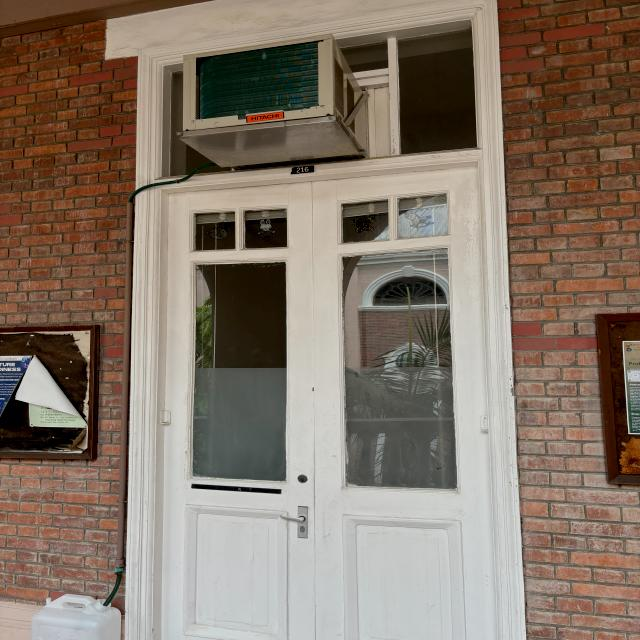MB216_roomNumber: (286, 164, 317, 179)
